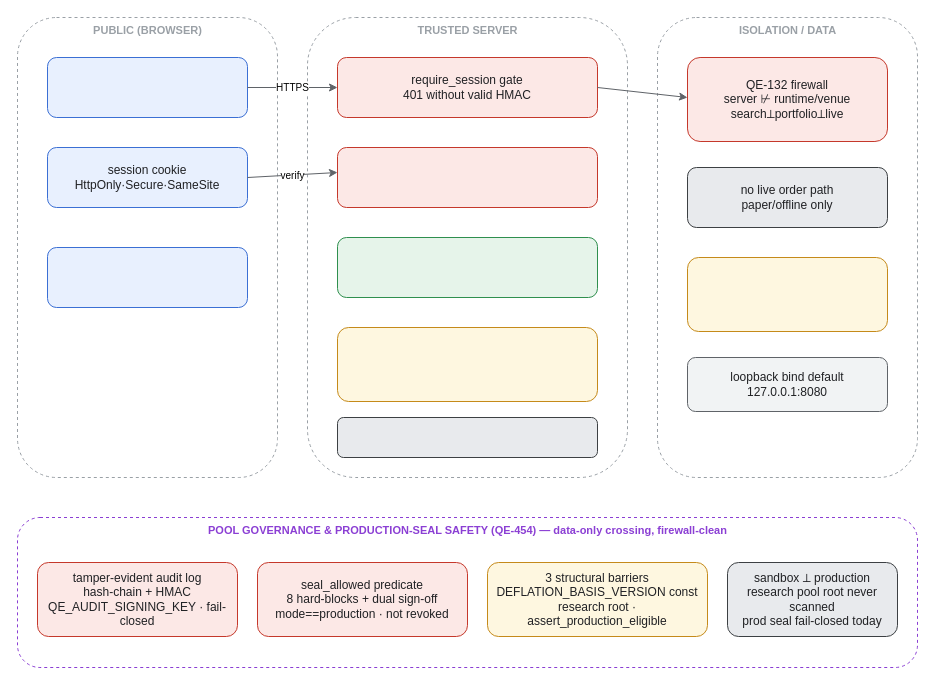
Image size: 935x685. Some labels were removed from this diagram. The shapes that lost their labels are listed below. From the top down, each one's centre as x and y in pixels, then its label:
At (x=147, y=87): "Admin SPA untrusted input".
At (x=467, y=177): "email allowlist fail-closed · normalized".
At (x=147, y=277): "OAuth CSRF state double-submit".
At (x=467, y=267): "id-token claims check aud/iss/exp/email_verified".
At (x=787, y=294): "deterministic vintages content hash · lineage reproducible".
At (x=467, y=364): "secret handling env only · QE_SESSION_SECRET no .env committed".
At (x=467, y=437): "no bare unwrap (order path)".
